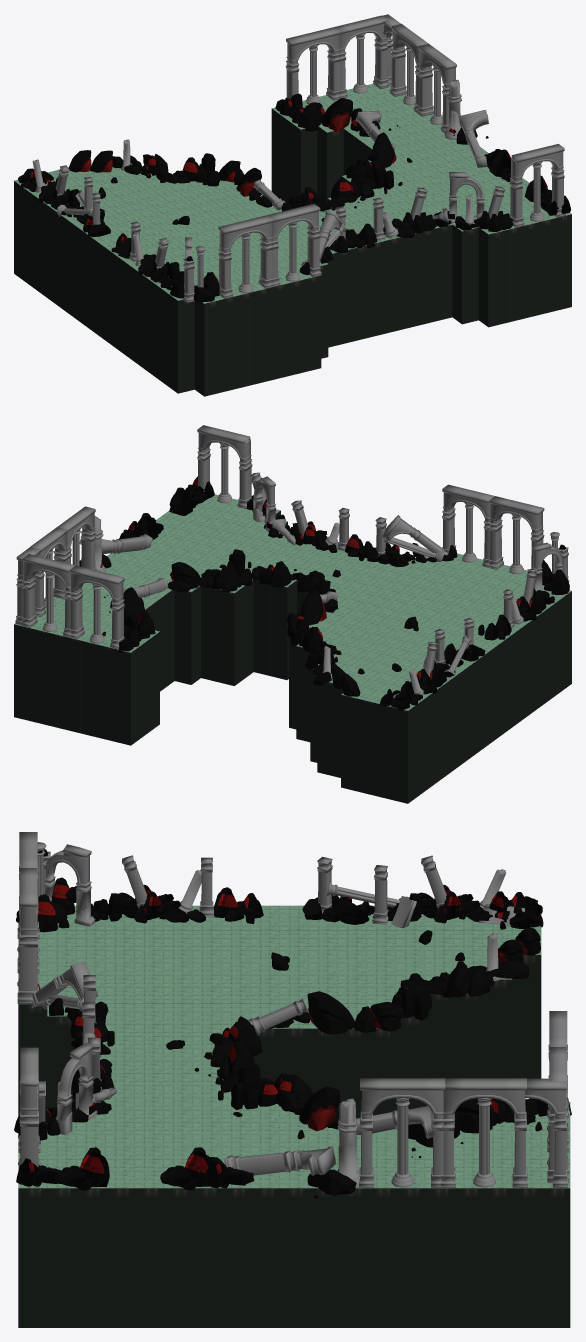
3 views of the same model, one above another, from view 1: azimuth 30°, elevation 25°; view 2: azimuth 150°, elevation 25°; view 3: azimuth 270°, elevation 25° (orthographic). The views are drawn at different scales.
Visible parts, largest first — view 1: Sea_Temple_Map_01, Object1758.016, Sea_Temple_Map_01_1; view 2: Sea_Temple_Map_01, Object1758.016, Sea_Temple_Map_01_1; view 3: Sea_Temple_Map_01, Object1758.016, Sea_Temple_Map_01_1.
Boxes of the visible parts, <box> form: Sea_Temple_Map_01: <box>14,83,571,396</box>; Object1758.016: <box>32,14,565,302</box>; Sea_Temple_Map_01_1: <box>18,93,570,302</box>; Sea_Temple_Map_01: <box>14,494,571,803</box>; Object1758.016: <box>15,425,569,697</box>; Sea_Temple_Map_01_1: <box>79,476,569,710</box>; Sea_Temple_Map_01: <box>18,905,570,1327</box>; Object1758.016: <box>17,832,569,1187</box>; Sea_Temple_Map_01_1: <box>14,849,571,1199</box>.
Size of the model in its own units: 9601 by 3641 by 7646.
